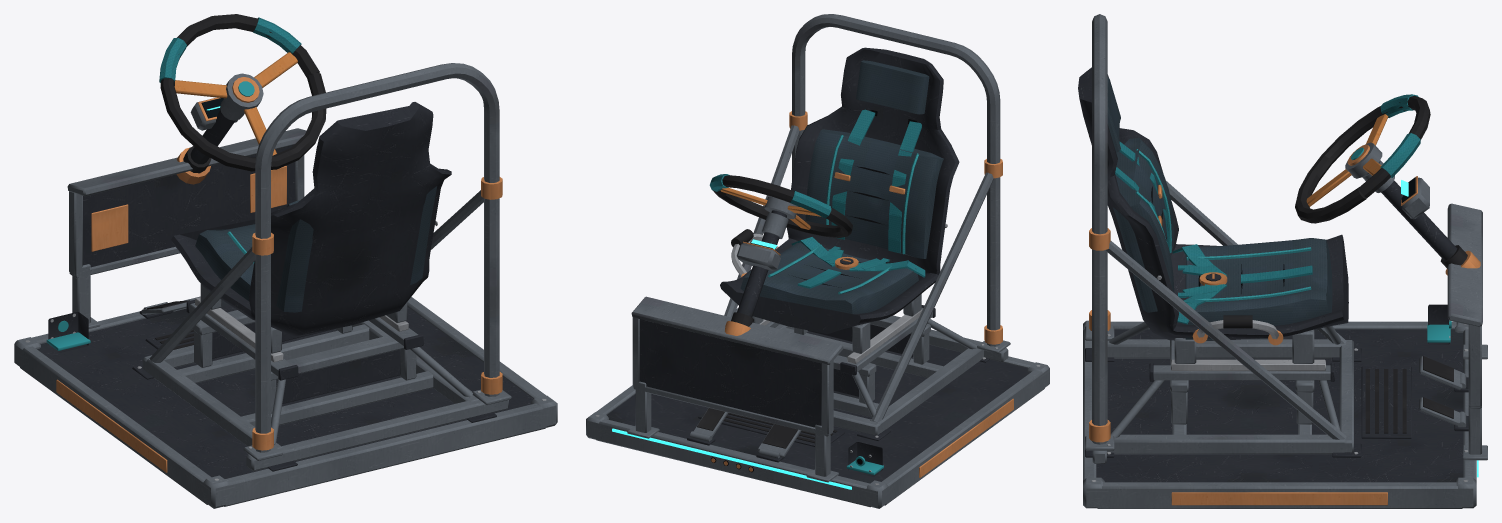
Rendered from drivers_seat_4.glb.
The picture shows the model from 3 angles, left to right: view 1: azimuth 30°, elevation 25°; view 2: azimuth 150°, elevation 25°; view 3: azimuth 270°, elevation 25°; orthographic projection. The views are drawn at different scales.
Visible parts, largest first — view 1: Base, ShellFrame, Hoop, Backrest, Cushion; view 2: Base, Backrest, ShellFrame, Hoop, Cushion, RunningLight; view 3: Base, Hoop, Cushion, ShellFrame, Backrest.
Part boxes in pixels (x1,y1,x2,y2): Base: [14, 14, 557, 508]; ShellFrame: [171, 102, 451, 353]; Hoop: [149, 63, 511, 460]; Backrest: [276, 186, 437, 312]; Cushion: [195, 224, 255, 300]; Base: [586, 174, 1049, 508]; Backrest: [805, 60, 943, 258]; ShellFrame: [720, 47, 959, 353]; Hoop: [724, 14, 1010, 422]; Cushion: [740, 237, 925, 314]; RunningLight: [612, 428, 851, 489]; Base: [1083, 94, 1487, 508]; Hoop: [1085, 14, 1346, 450]; Cushion: [1172, 238, 1332, 340]; ShellFrame: [1078, 67, 1348, 363]; Backrest: [1107, 77, 1174, 312].
Size of the model in its own units: 0.948 by 0.989 by 0.9791.
Materials: 13 (9 with a texture image).
